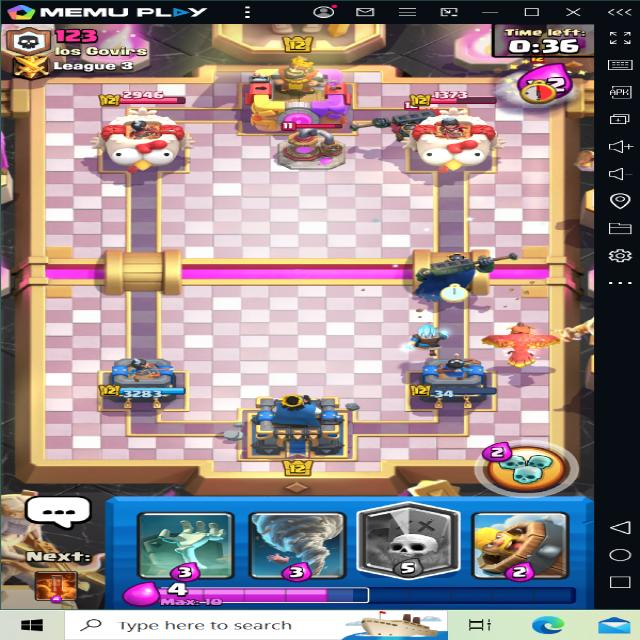elixir-collector: (268, 128, 356, 171)
skeleton-king: (372, 98, 438, 152)
